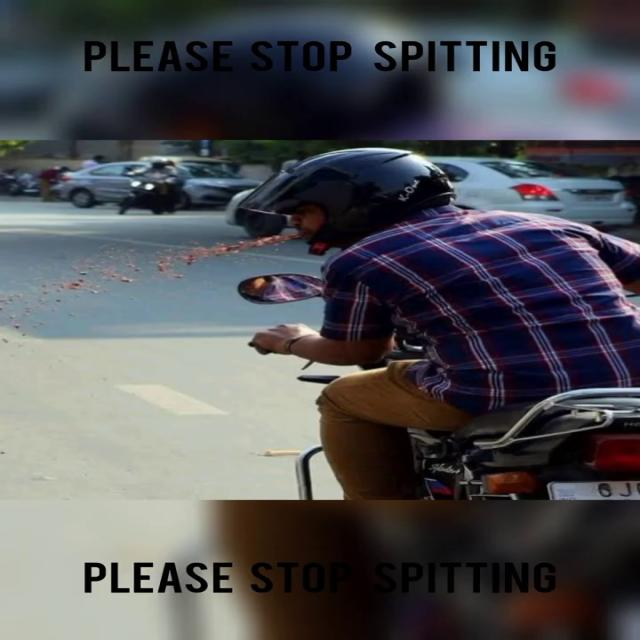spit: (3, 160, 348, 366)
